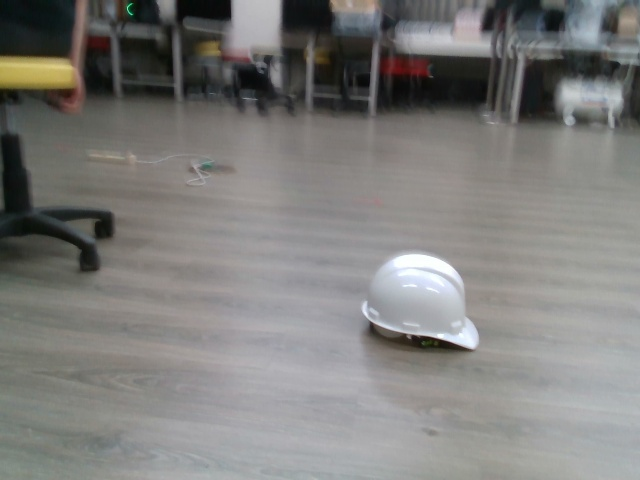helmet: (361, 251, 480, 355)
